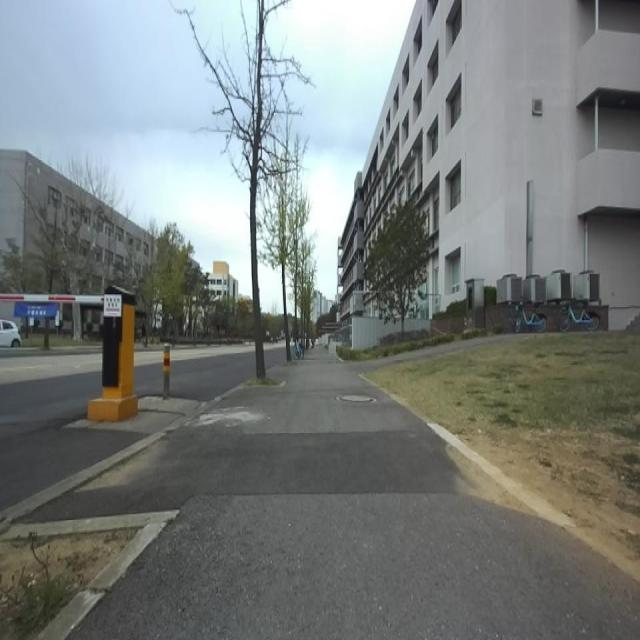sidewalk: (24, 354, 640, 639), (0, 379, 249, 529), (0, 418, 186, 530), (428, 423, 576, 527), (347, 340, 484, 371)
